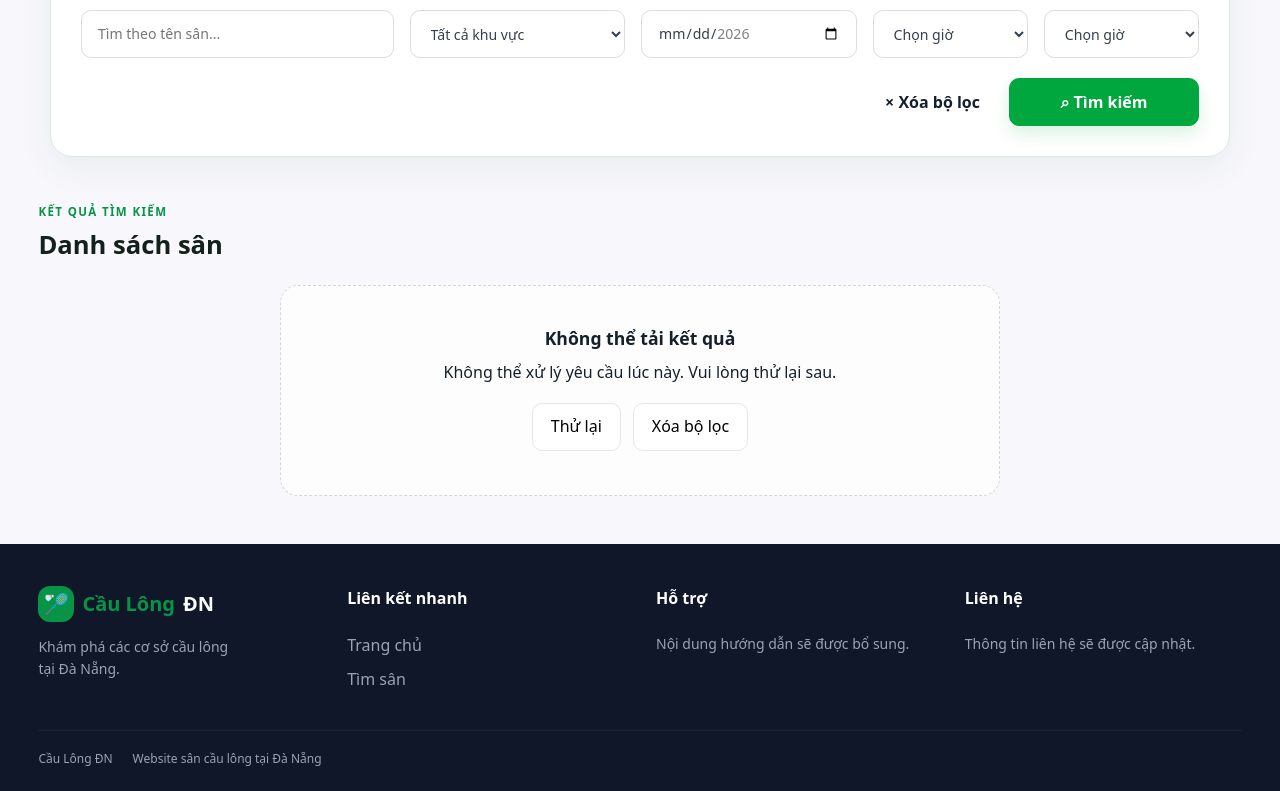
empty is distinct from server failure and retry recovers
(page scrolled)
Expected: the message is shown, [280,285,1000,496]
Expected: the text "Không tìm thấy sân phù hợp" is not shown
Click the button "Thử lại" at [576, 427], box [532,403,621,451]
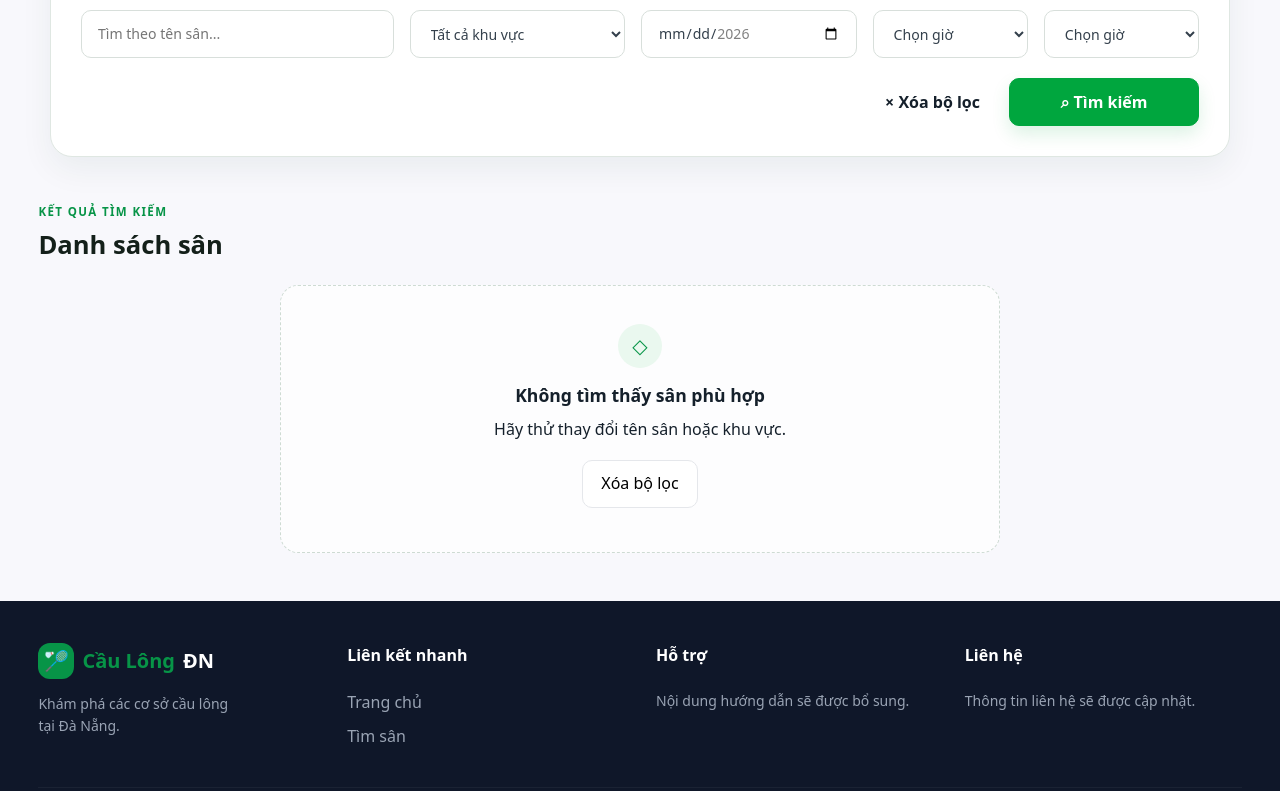
Result: the heading "Không tìm thấy sân phù hợp" is shown at [515,383,765,407]
